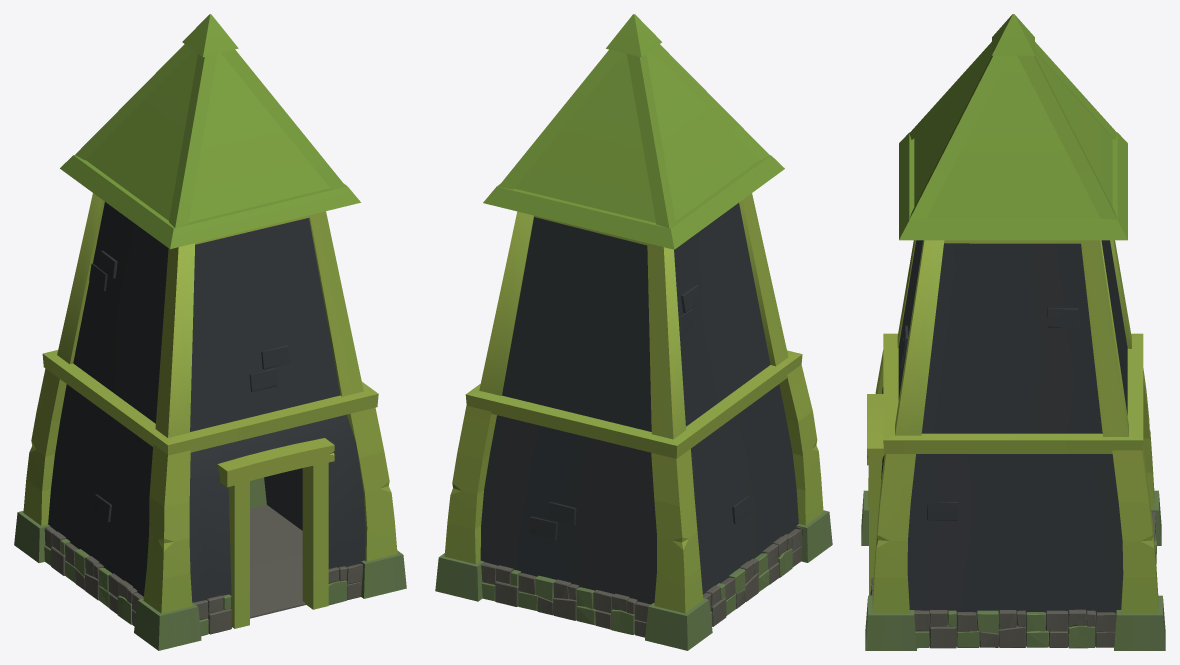
Rendered from Windmill_03.fbx.
The picture shows the model from 3 angles, left to right: view 1: azimuth 30°, elevation 25°; view 2: azimuth 150°, elevation 25°; view 3: azimuth 270°, elevation 25°; orthographic projection. The views are drawn at different scales.
Visible parts, largest first — view 1: Windmill_03; view 2: Windmill_03; view 3: Windmill_03.
Part boxes in pixels (x1,y1,x2,y2): Windmill_03: [14, 14, 406, 650]; Windmill_03: [435, 14, 832, 650]; Windmill_03: [861, 14, 1165, 650].
Size of the model in its own units: 3.61 by 7.62 by 3.66.
